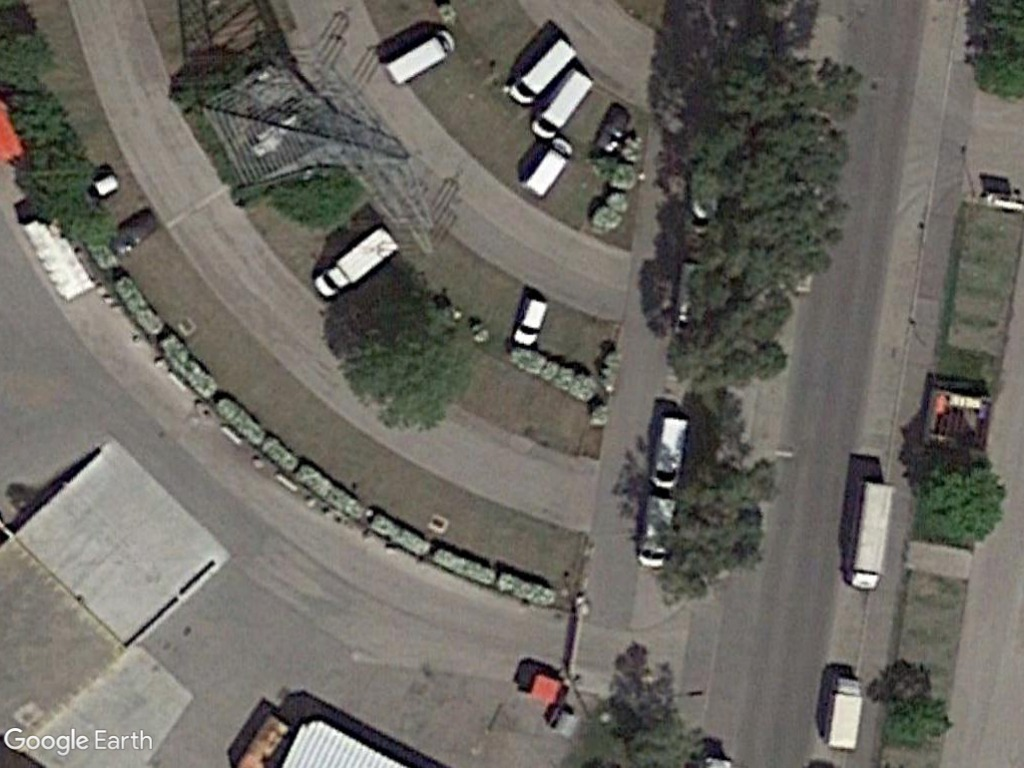truck: (309, 221, 404, 297), (841, 477, 898, 594), (823, 672, 866, 754)
van: (527, 66, 597, 142), (507, 36, 579, 105), (380, 28, 460, 86), (646, 412, 691, 495), (519, 137, 579, 197), (636, 493, 681, 570), (508, 296, 551, 350)
